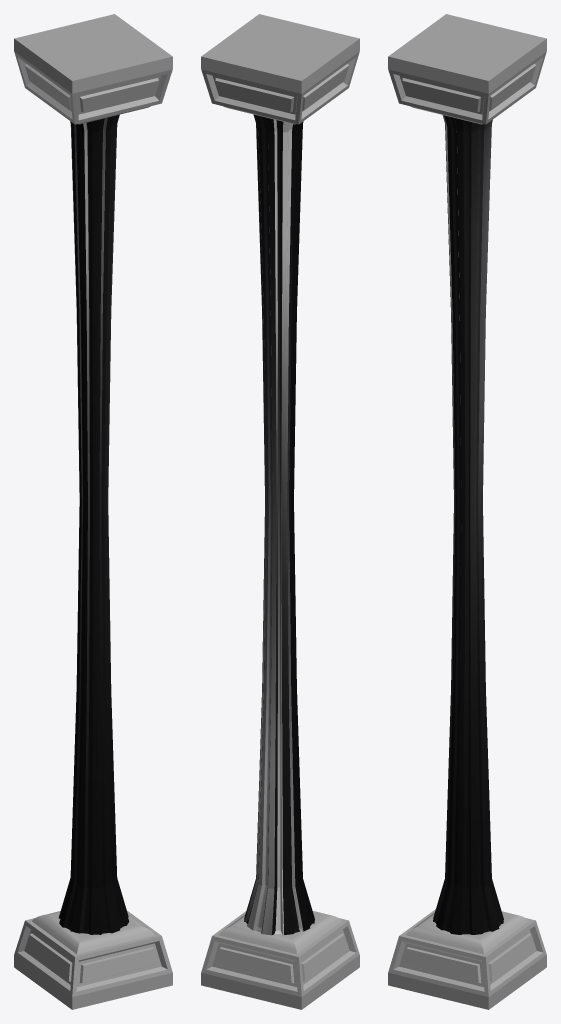
Rendered from Saule.fbx.
The picture shows the model from 3 angles, left to right: view 1: azimuth 30°, elevation 25°; view 2: azimuth 150°, elevation 25°; view 3: azimuth 330°, elevation 25°; orthographic projection.
Visible parts, largest first — view 1: pCube63; view 2: pCube63; view 3: pCube63.
Boxes of the visible parts, bbox=[...] form: pCube63: bbox=[14, 14, 172, 1009]; pCube63: bbox=[201, 14, 359, 1009]; pCube63: bbox=[388, 14, 546, 1009].
Bounding box in the file's own units: 12.88 × 114 × 12.88.
2 materials, 1 textured.
